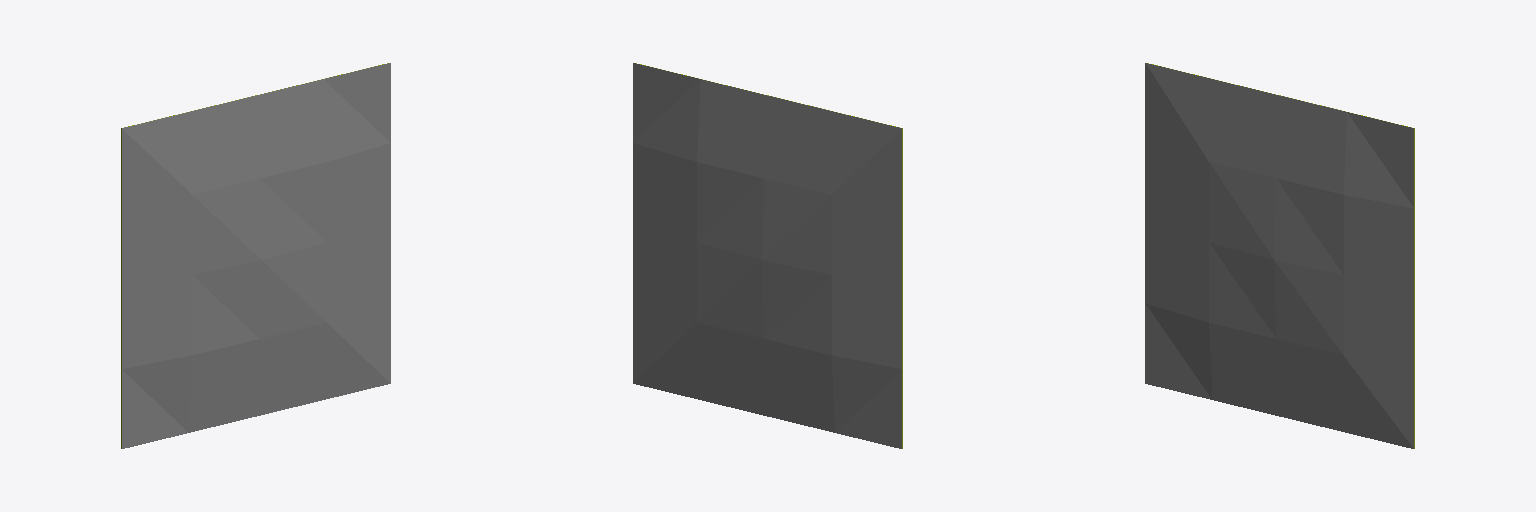
File: apositoespuma.obj
The picture shows the model from 3 angles: view 1: azimuth 30°, elevation 25°; view 2: azimuth 150°, elevation 25°; view 3: azimuth 330°, elevation 25°; orthographic projection.
Visible parts, largest first — view 1: B005; view 2: B005; view 3: B005.
Boxes of the visible parts, <box> form: B005: <box>121,63,390,448</box>; B005: <box>633,63,902,448</box>; B005: <box>1145,63,1414,448</box>.
Size of the model in its own units: 0.7604 by 0.8673 by 0.0548.